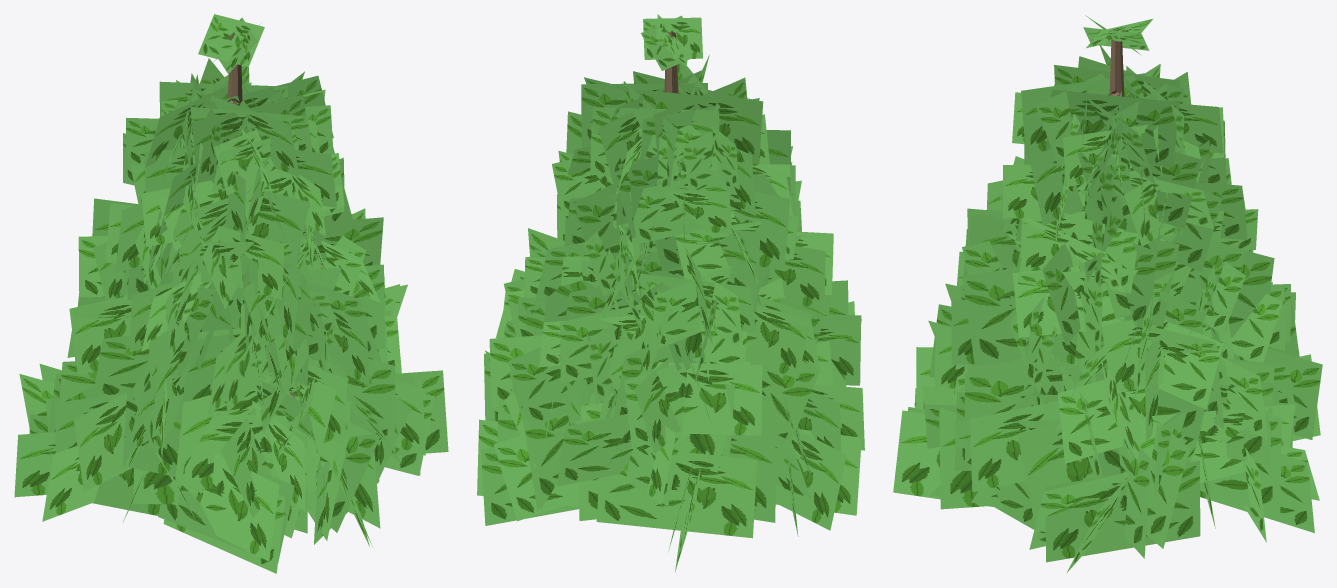
The model's file is pino_nevado.glb.
3 renders of one model, left to right at view 1: azimuth 30°, elevation 25°; view 2: azimuth 150°, elevation 25°; view 3: azimuth 270°, elevation 25°, orthographic. The views are drawn at different scales.
Visible parts, largest first — view 1: pino_nevado2; view 2: pino_nevado2; view 3: pino_nevado2.
Part boxes in pixels (x1=…): pino_nevado2: x1=14, y1=14, x2=448, y2=573; pino_nevado2: x1=477, y1=14, x2=864, y2=572; pino_nevado2: x1=893, y1=15, x2=1322, y2=573.
Size of the model in its own units: 6.16 by 6.94 by 5.69.
2 materials, 1 textured.
